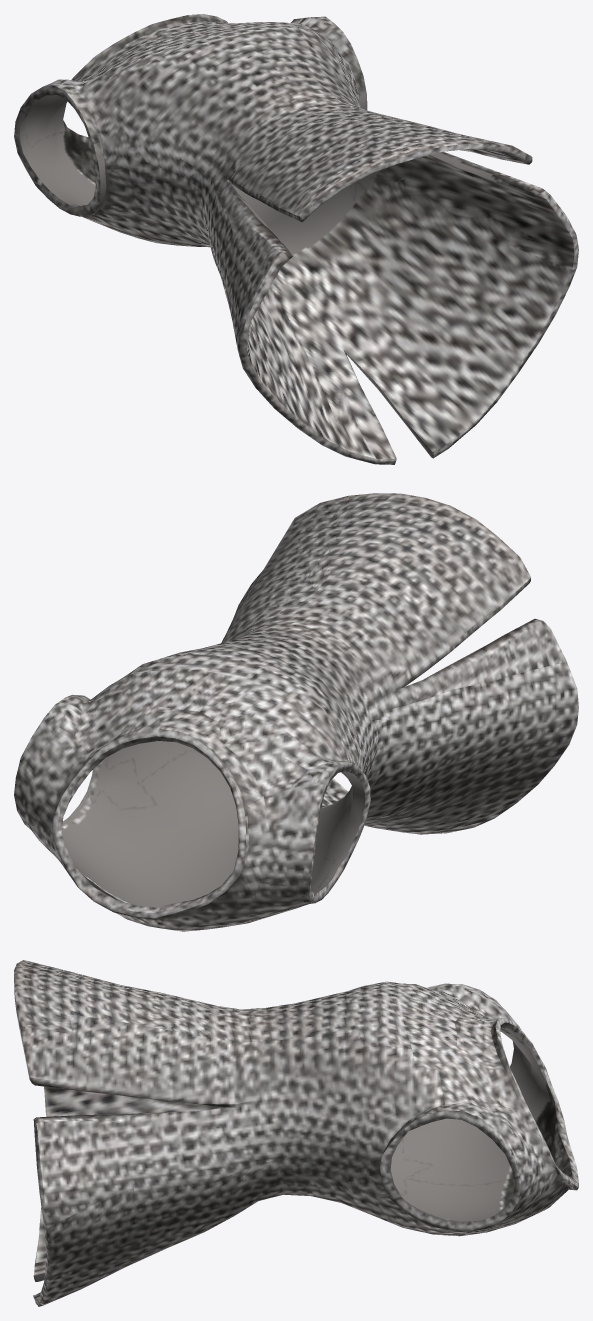
The model's file is item_mm9_10097.glb.
3 views of the same model, one above another, from view 1: azimuth 30°, elevation 25°; view 2: azimuth 150°, elevation 25°; view 3: azimuth 270°, elevation 25° (orthographic). The views are drawn at different scales.
Visible parts, largest first — view 1: d10097; view 2: d10097; view 3: d10097.
Part boxes in pixels (x1,y1,x2,y2): d10097: [14, 14, 578, 464]; d10097: [14, 493, 578, 931]; d10097: [14, 960, 578, 1306].
Size of the model in its own units: 0.6826 by 0.6168 by 1.01.
Materials: 1 (1 with a texture image).
